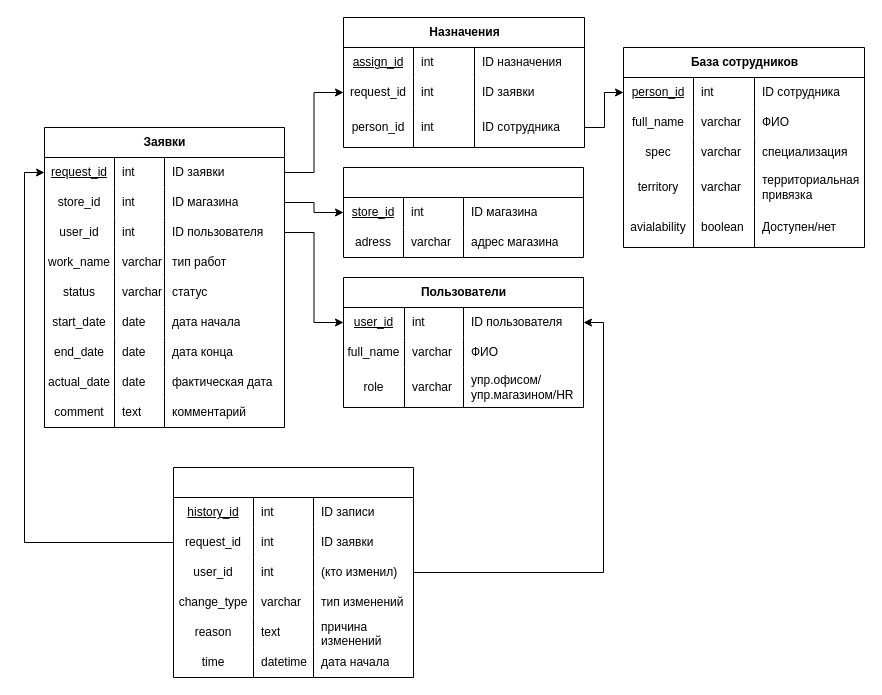
The diagram is 882 pixels wide and 695 high, and some of its shapes have lost their labels. The shapes that lost their labels are listed below. From the top down, each one's box as (x1, y1, x2, y2) in pixels, then its label:
(342, 166, 584, 258): Магазины
(172, 466, 414, 678): История
